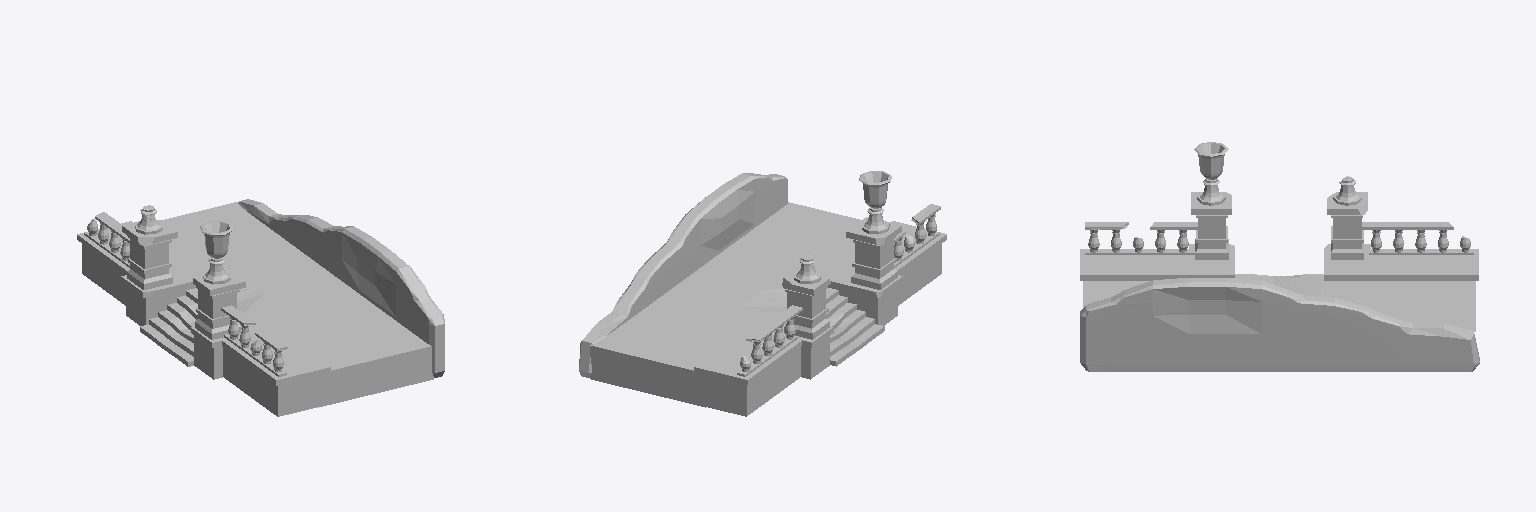
The model's file is platform.obj.
3 views of the same model, side by side, from view 1: azimuth 30°, elevation 25°; view 2: azimuth 150°, elevation 25°; view 3: azimuth 270°, elevation 25° (orthographic).
Visible parts, largest first — view 1: defaultMaterial.001; view 2: defaultMaterial.001; view 3: defaultMaterial.001.
Boxes of the visible parts, box(x1,y1,x2,y2) form: defaultMaterial.001: box(77, 199, 444, 416); defaultMaterial.001: box(579, 171, 946, 416); defaultMaterial.001: box(1080, 142, 1479, 371).
Bounding box in the file's own units: 1.09 × 0.8057 × 2.04.